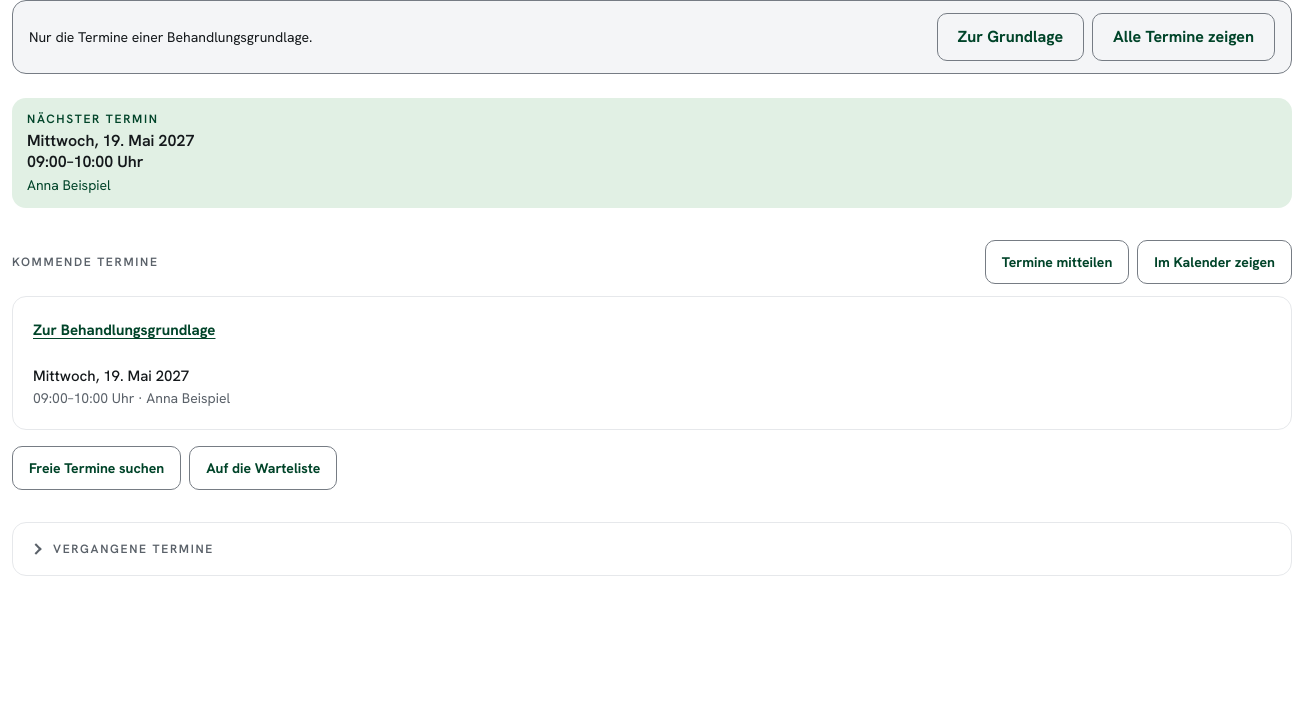
Terminbereich der Akte (AKTE-003) › Verordnung und Termine finden einander › nimmt den Filter wieder heraus
Click the button "Alle Termine zeigen" at (1184, 37), box [1092,13,1275,61]
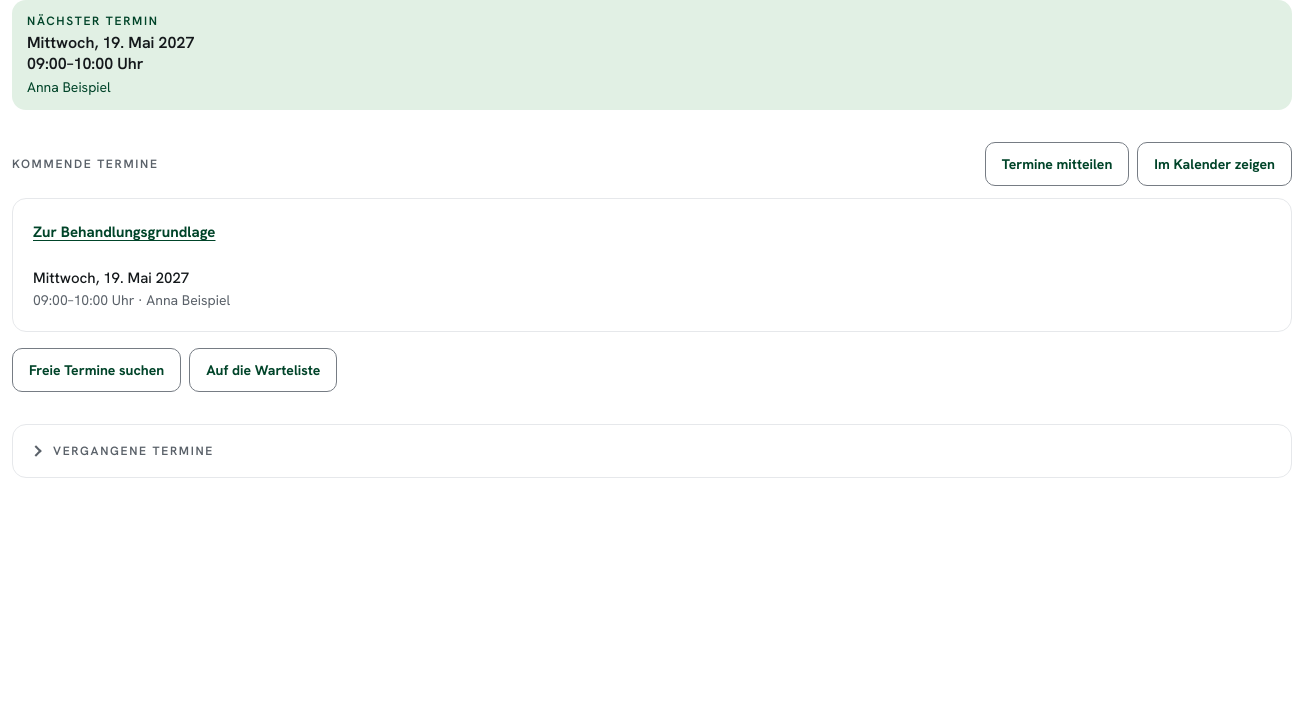
Check: the text "Nur die Termine einer Behandlungsgrundlage." is gone
